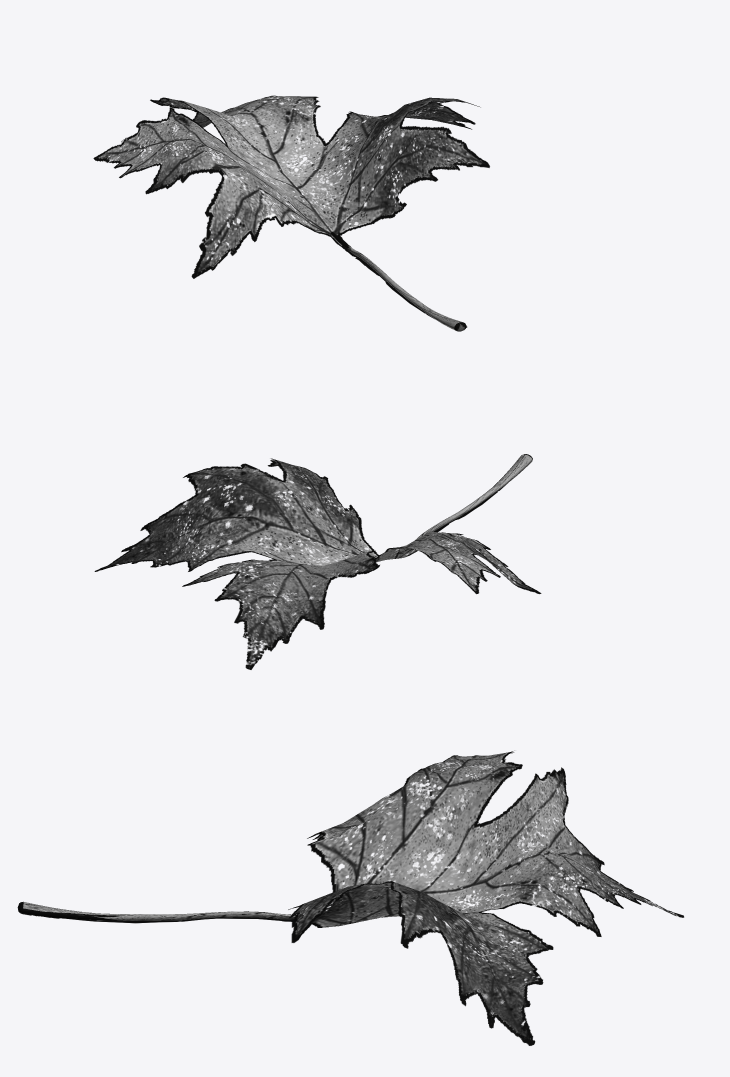
3 views of the same model, one above another, from view 1: azimuth 30°, elevation 25°; view 2: azimuth 150°, elevation 25°; view 3: azimuth 270°, elevation 25° (orthographic). The views are drawn at different scales.
Visible parts, largest first — view 1: leaf, stem; view 2: leaf, stem; view 3: leaf, stem.
Boxes of the visible parts, x1,y1,x2,y2 form: leaf: (93,95,489,327); stem: (331,232,466,331); leaf: (94,458,541,669); stem: (395,454,532,554); leaf: (20,750,684,1045); stem: (17,901,325,920).
Size of the model in its own units: 7.56 by 1.75 by 8.81.
2 materials, 2 textured.
